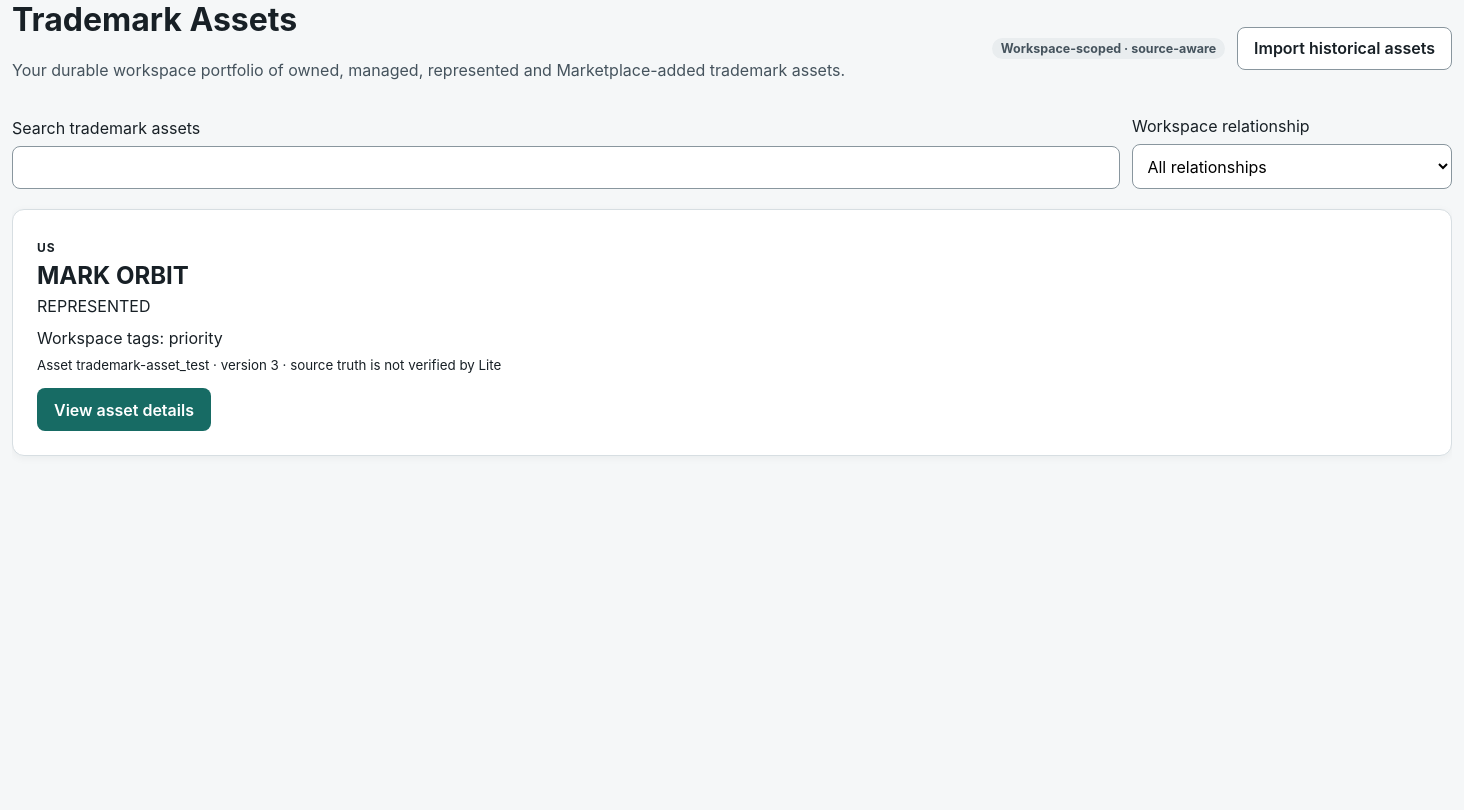
TrademarkAssetPortfolio › preserves loaded Asset when durable disposition read is unavailable
This screenshot has width=1464, height=810.
Click the button "View asset details" at (124, 410), box [37,388,211,431]
(page scrolled)
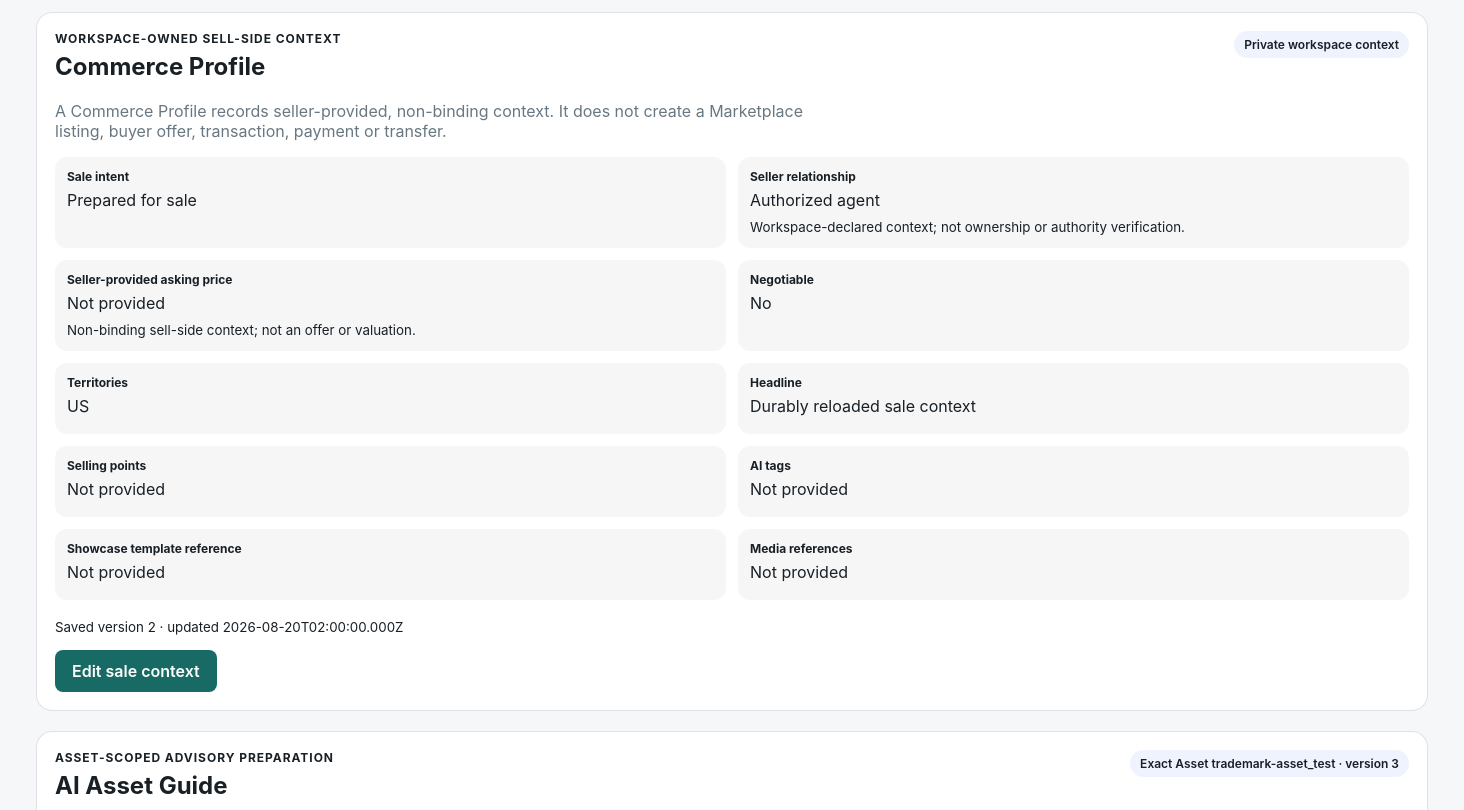
Now the text "Durably reloaded sale context" is shown, box [750,396,976,416]
